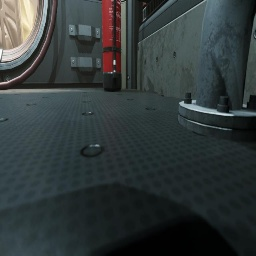FireExtinguisher ]: (102, 0, 122, 92)
